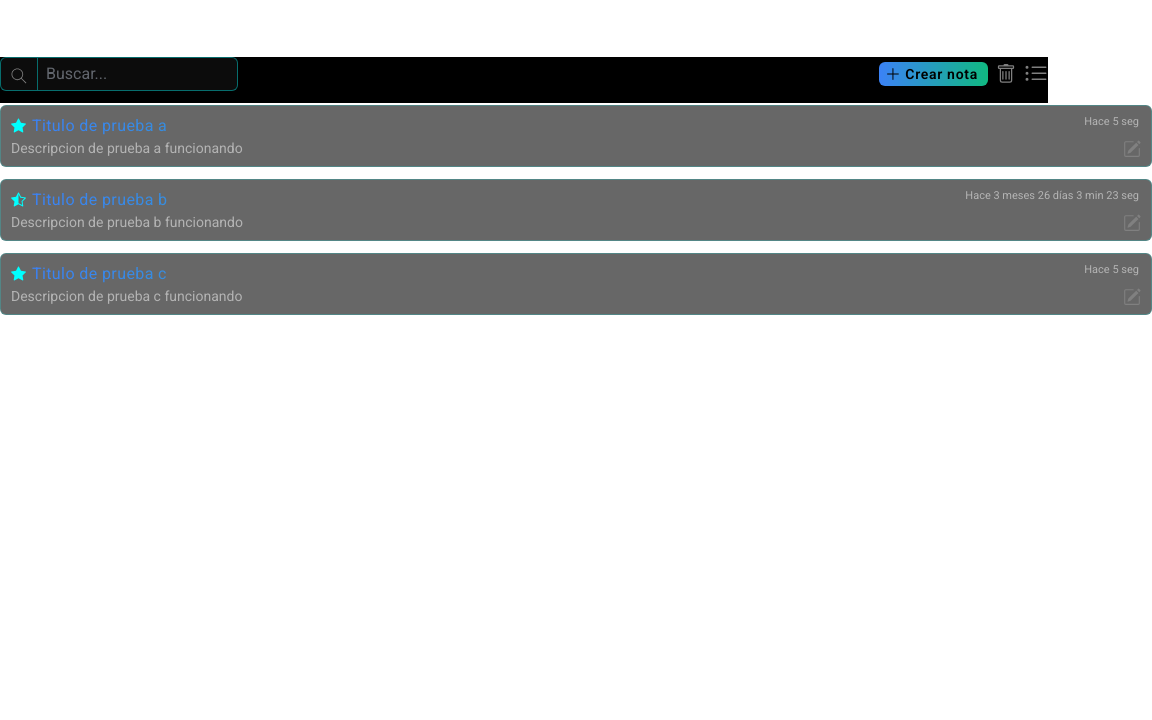
it: Search component › list component › view note component
Click the text "Titulo de prueba a".
click(459, 126)  # box [32,114,886,138]
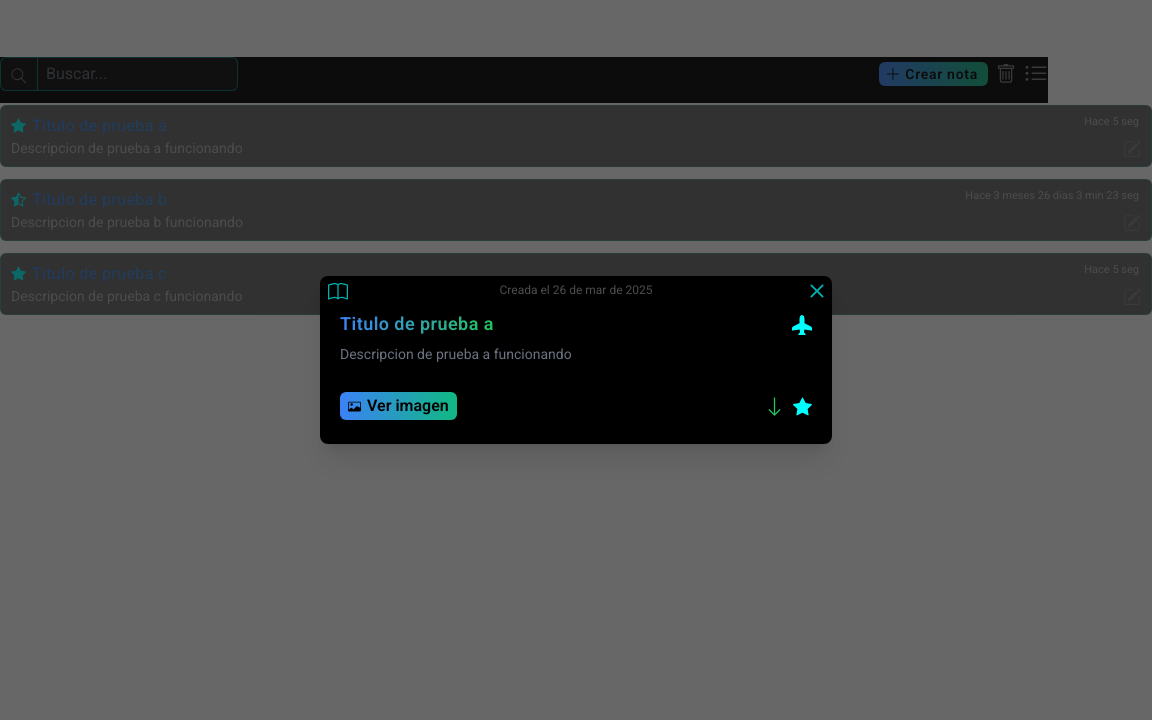
Result: the heading titled "Titulo de prueba a" is shown at [340,312,494,336]
Result: the text titled "Descripcion de prueba a funcionando" is shown at [340,346,572,362]
Result: the text titled "Fecha de creacion" is shown at [500,281,652,299]
